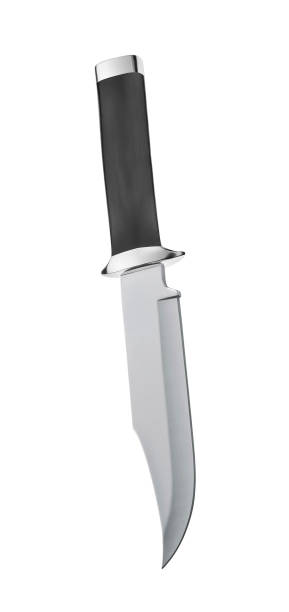knife: (90, 55, 198, 573)
